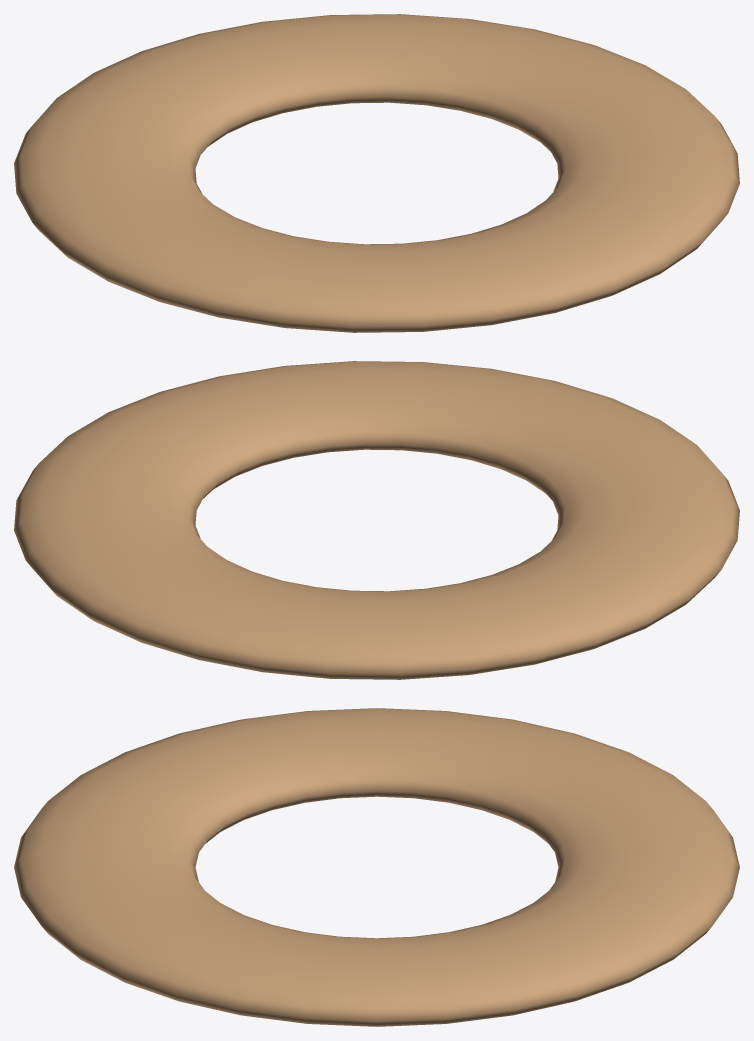
File: shock-wave.obj
3 renders of one model, top to bottom at view 1: azimuth 30°, elevation 25°; view 2: azimuth 150°, elevation 25°; view 3: azimuth 270°, elevation 25°, orthographic.
Visible parts, largest first — view 1: shock-wave.obj; view 2: shock-wave.obj; view 3: shock-wave.obj.
Boxes of the visible parts, x1=… form: shock-wave.obj: x1=14, y1=14, x2=739, y2=332; shock-wave.obj: x1=14, y1=361, x2=739, y2=679; shock-wave.obj: x1=14, y1=708, x2=739, y2=1026.
Size of the model in its own units: 4 by 0.2816 by 4.
